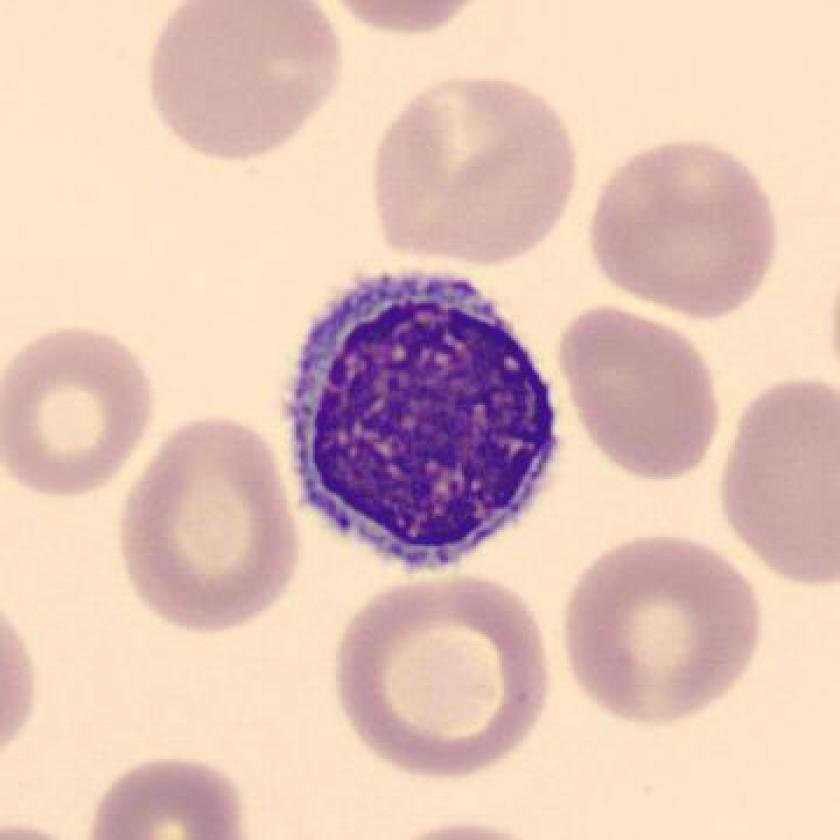lymphocyte: (276, 253, 575, 584)
